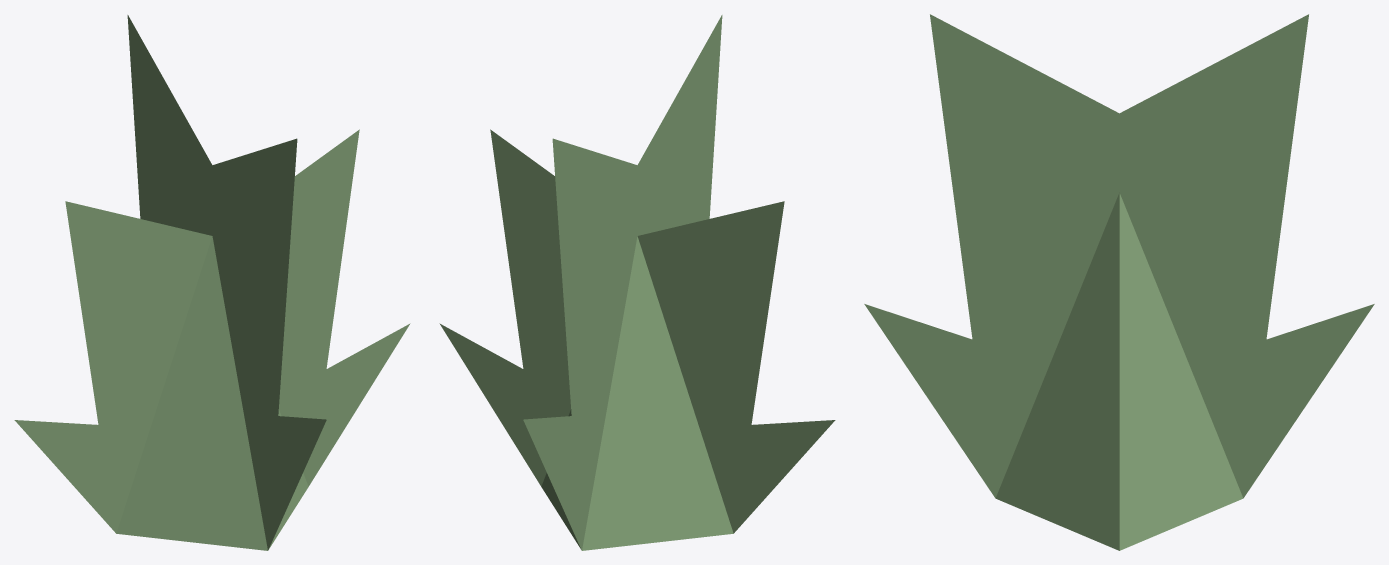
File: Reeds.glb
3 views of the same model, side by side, from view 1: azimuth 30°, elevation 25°; view 2: azimuth 150°, elevation 25°; view 3: azimuth 270°, elevation 25° (orthographic). The views are drawn at different scales.
Visible parts, largest first — view 1: plant_flatTall; view 2: plant_flatTall; view 3: plant_flatTall.
Part boxes in pixels (left/top/right/bottom): plant_flatTall: left=14, top=15, right=410, bottom=550; plant_flatTall: left=439, top=15, right=835, bottom=550; plant_flatTall: left=864, top=14, right=1374, bottom=550.
Bounding box in the file's own units: 0.2717 × 0.2843 × 0.2717.
